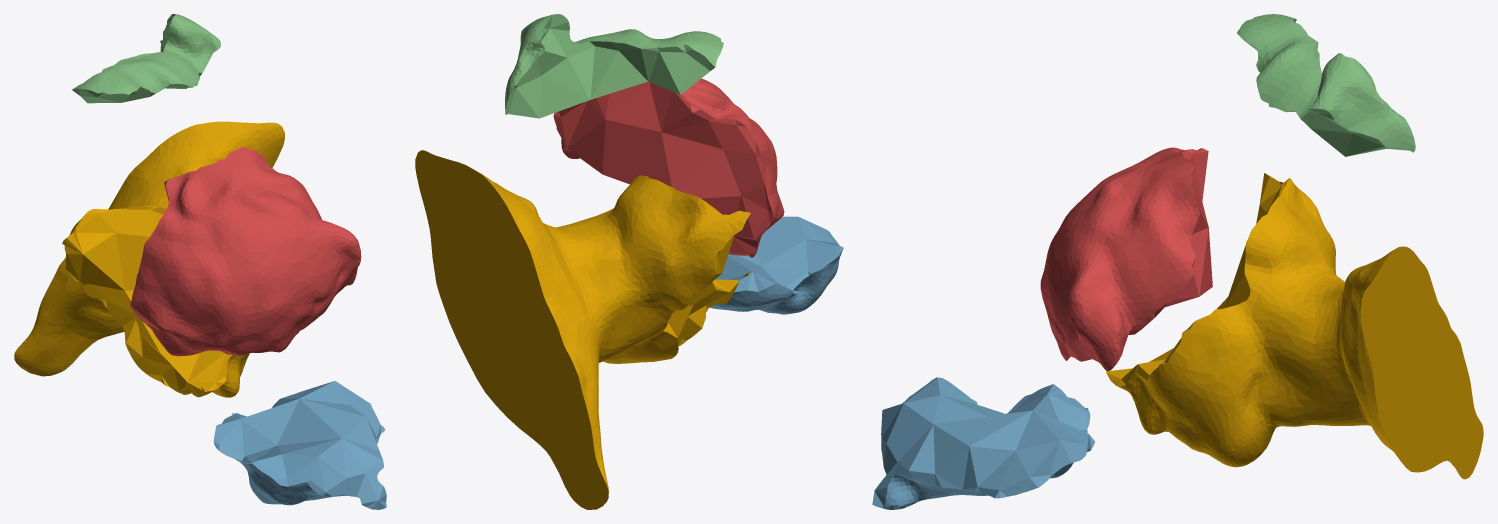
Rendered from mode_6_5pcs_transformed.glb.
The picture shows the model from 3 angles, left to right: view 1: azimuth 30°, elevation 25°; view 2: azimuth 150°, elevation 25°; view 3: azimuth 270°, elevation 25°; orthographic projection. The views are drawn at different scales.
Parts seen in each view (by area): view 1: piece_1.obj, piece_0.obj, piece_2.obj, piece_3.obj; view 2: piece_0.obj, piece_1.obj, piece_3.obj, piece_2.obj; view 3: piece_0.obj, piece_1.obj, piece_2.obj, piece_3.obj.
Part boxes in pixels (x1,y1,x2,y2): piece_1.obj: [130, 147, 361, 356]; piece_0.obj: [14, 121, 284, 397]; piece_2.obj: [213, 381, 386, 509]; piece_3.obj: [72, 14, 220, 103]; piece_0.obj: [415, 150, 750, 509]; piece_1.obj: [553, 78, 784, 257]; piece_3.obj: [505, 14, 723, 118]; piece_2.obj: [710, 216, 843, 314]; piece_0.obj: [1099, 173, 1483, 479]; piece_1.obj: [1040, 147, 1212, 371]; piece_2.obj: [872, 377, 1094, 509]; piece_3.obj: [1237, 14, 1415, 156].
Bounding box in the file's own units: 0.8256 × 1.17 × 1.38.
